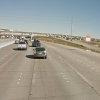Car: (31, 41, 55, 61)
